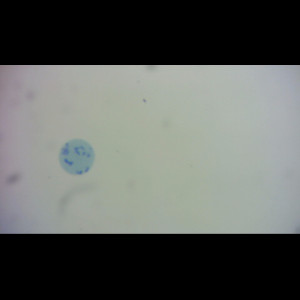aggregate reticulocyte: (57, 137, 95, 176)
